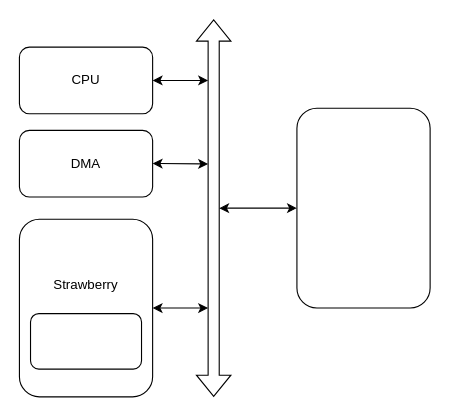
Image size: 450x416. Some labels were removed from this diagram. Each missing label, with the centre of its shape:
Internal Scratchpad Memory: [85,340]
Shared Memory: [363,207]
